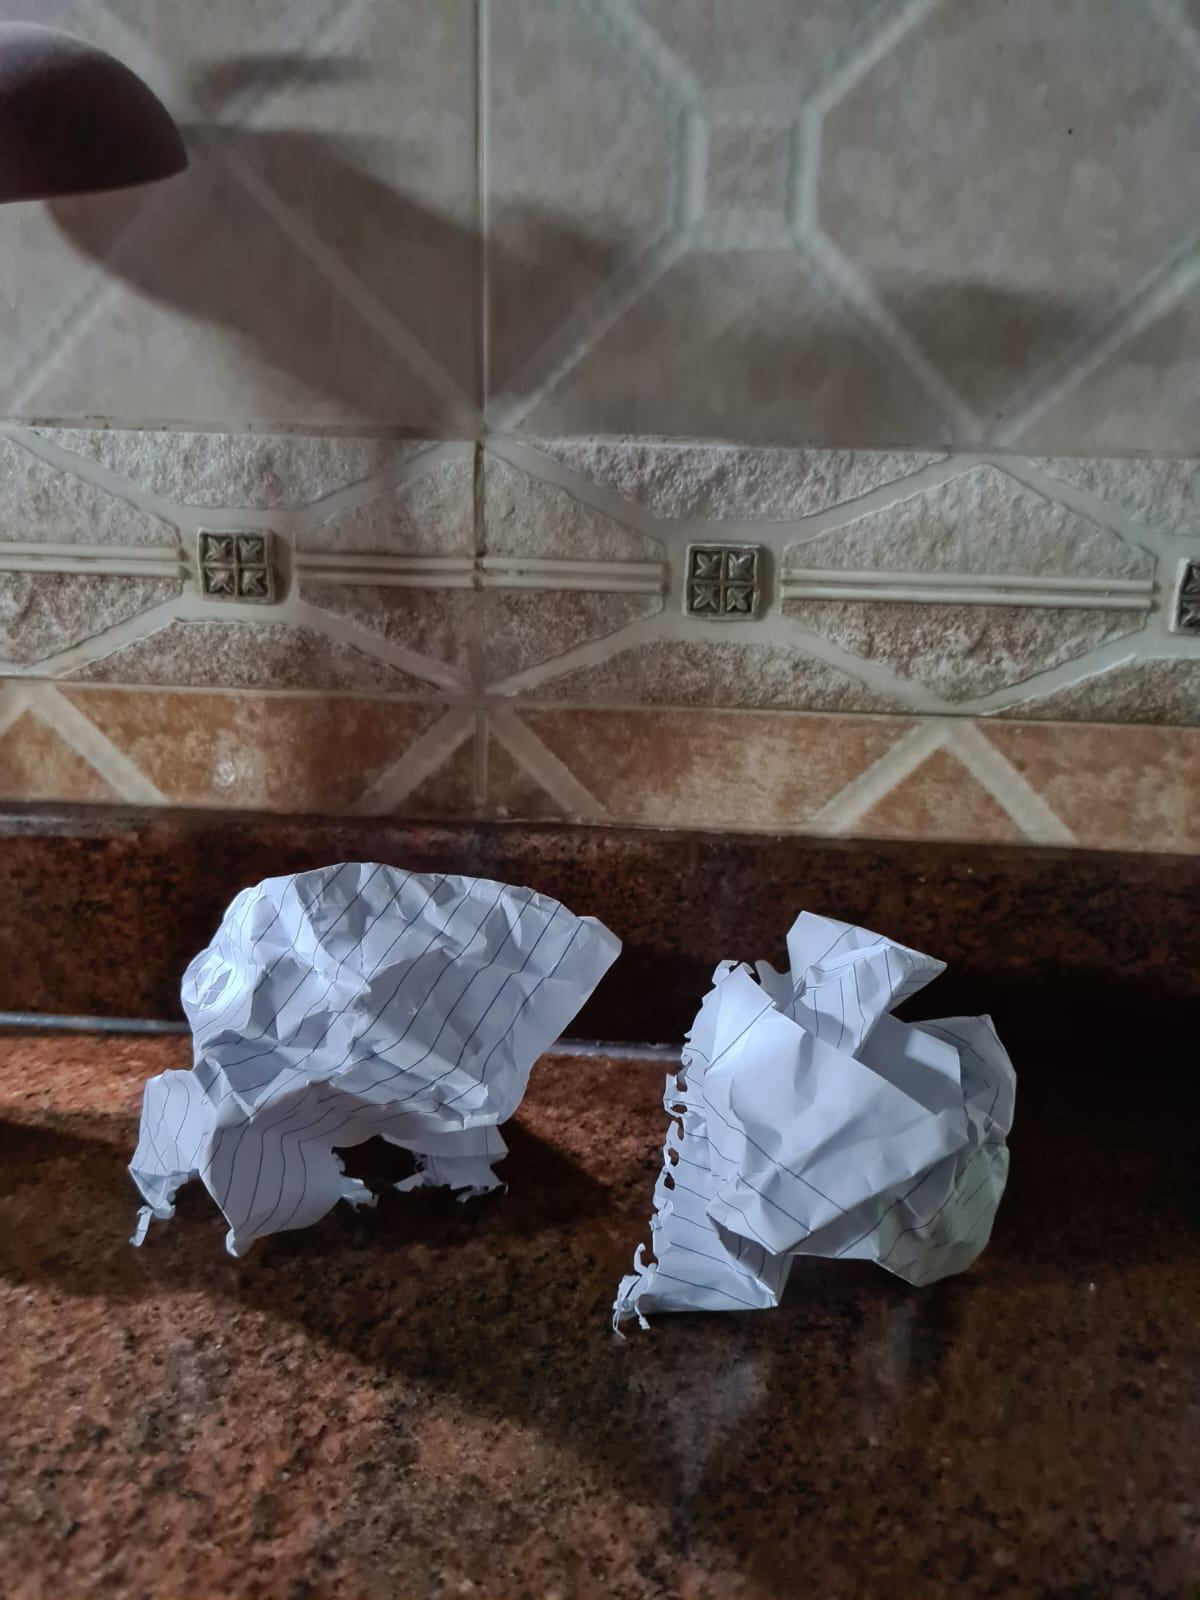Paper: (128, 841, 587, 1241), (661, 894, 1013, 1314)
